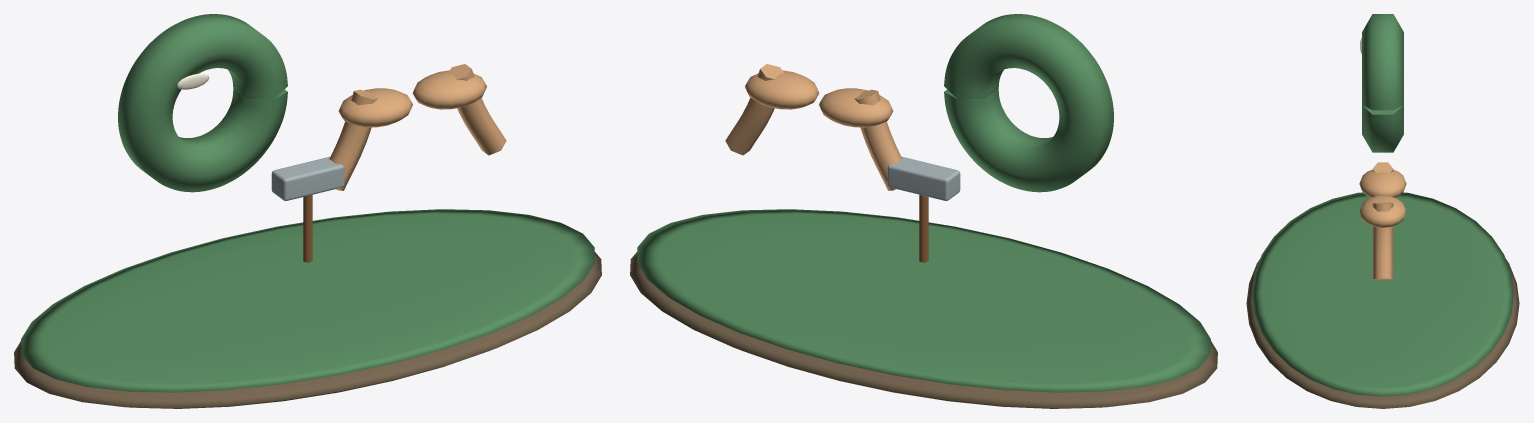
Rendered from complete-second-jade-hands-do.glb.
3 views of the same model, side by side, from view 1: azimuth 30°, elevation 25°; view 2: azimuth 150°, elevation 25°; view 3: azimuth 270°, elevation 25° (orthographic). The views are drawn at different scales.
Visible parts, largest first — view 1: complete-second-jade-hands-do_surface_01, complete-second-jade-hands-do_surface_00, complete-second-jade-hands-do_surface_03, complete-second-jade-hands-do_surface_05, complete-second-jade-hands-do_surface_04; view 2: complete-second-jade-hands-do_surface_01, complete-second-jade-hands-do_surface_00, complete-second-jade-hands-do_surface_03, complete-second-jade-hands-do_surface_05, complete-second-jade-hands-do_surface_04; view 3: complete-second-jade-hands-do_surface_01, complete-second-jade-hands-do_surface_00, complete-second-jade-hands-do_surface_03.
Boxes of the visible parts, left/top/right/bottom form: complete-second-jade-hands-do_surface_01: left=21, top=14, right=594, bottom=392; complete-second-jade-hands-do_surface_00: left=14, top=252, right=601, bottom=408; complete-second-jade-hands-do_surface_03: left=329, top=64, right=506, bottom=190; complete-second-jade-hands-do_surface_05: left=271, top=156, right=344, bottom=200; complete-second-jade-hands-do_surface_04: left=303, top=195, right=312, bottom=262; complete-second-jade-hands-do_surface_01: left=637, top=14, right=1210, bottom=392; complete-second-jade-hands-do_surface_00: left=630, top=252, right=1217, bottom=408; complete-second-jade-hands-do_surface_03: left=725, top=64, right=902, bottom=190; complete-second-jade-hands-do_surface_05: left=887, top=156, right=960, bottom=200; complete-second-jade-hands-do_surface_04: left=919, top=195, right=928, bottom=262; complete-second-jade-hands-do_surface_01: left=1252, top=14, right=1513, bottom=396; complete-second-jade-hands-do_surface_00: left=1246, top=259, right=1519, bottom=408; complete-second-jade-hands-do_surface_03: left=1359, top=162, right=1406, bottom=279.
Bounding box in the file's own units: 4.56 × 2.59 × 2.5.
